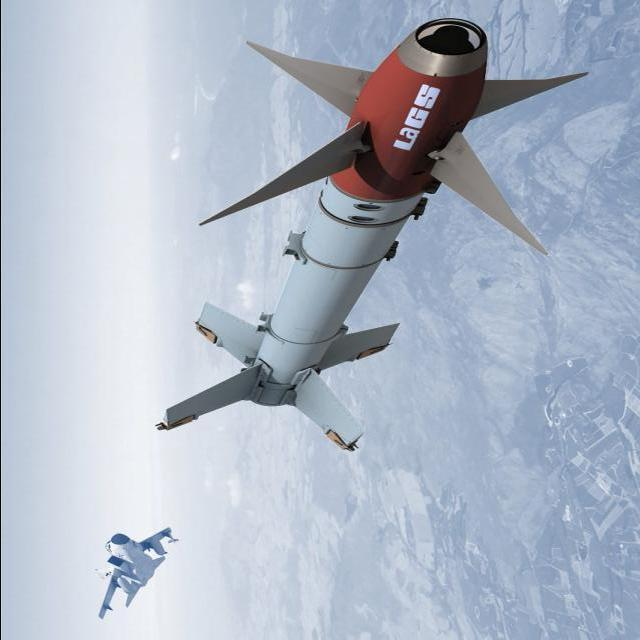missile: (133, 8, 601, 464)
